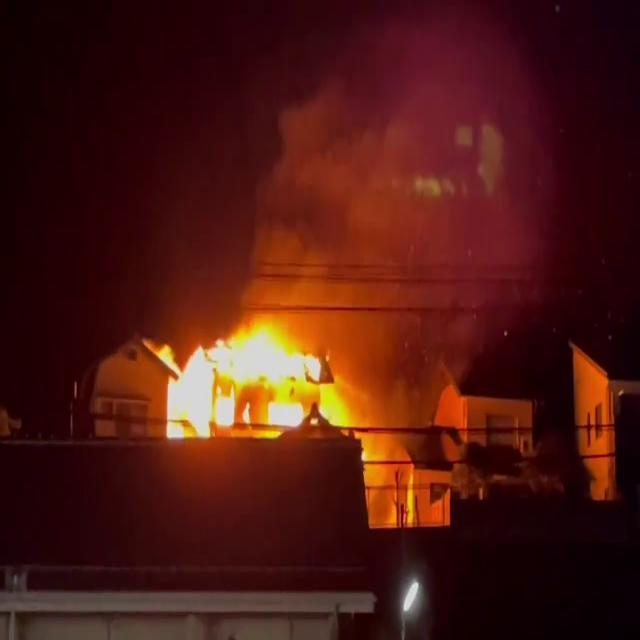Fire: (147, 310, 356, 444)
Smoke: (236, 1, 604, 350)
